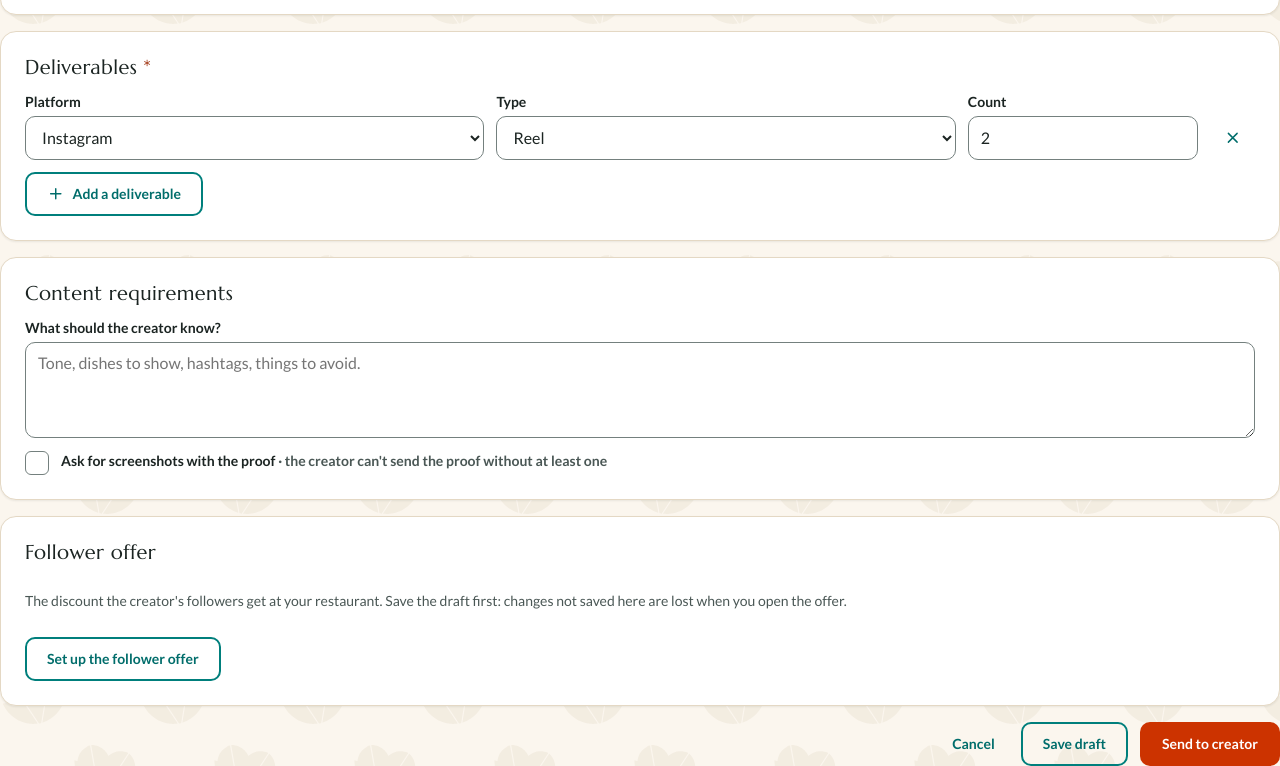
Test: lets the brand ask for screenshots with the proof, and shows it in the sent terms
(page scrolled)
Step 1. Click the checkbox labelled "Ask for screenshots with the proof" → [316, 463], box [25,451,607,475]
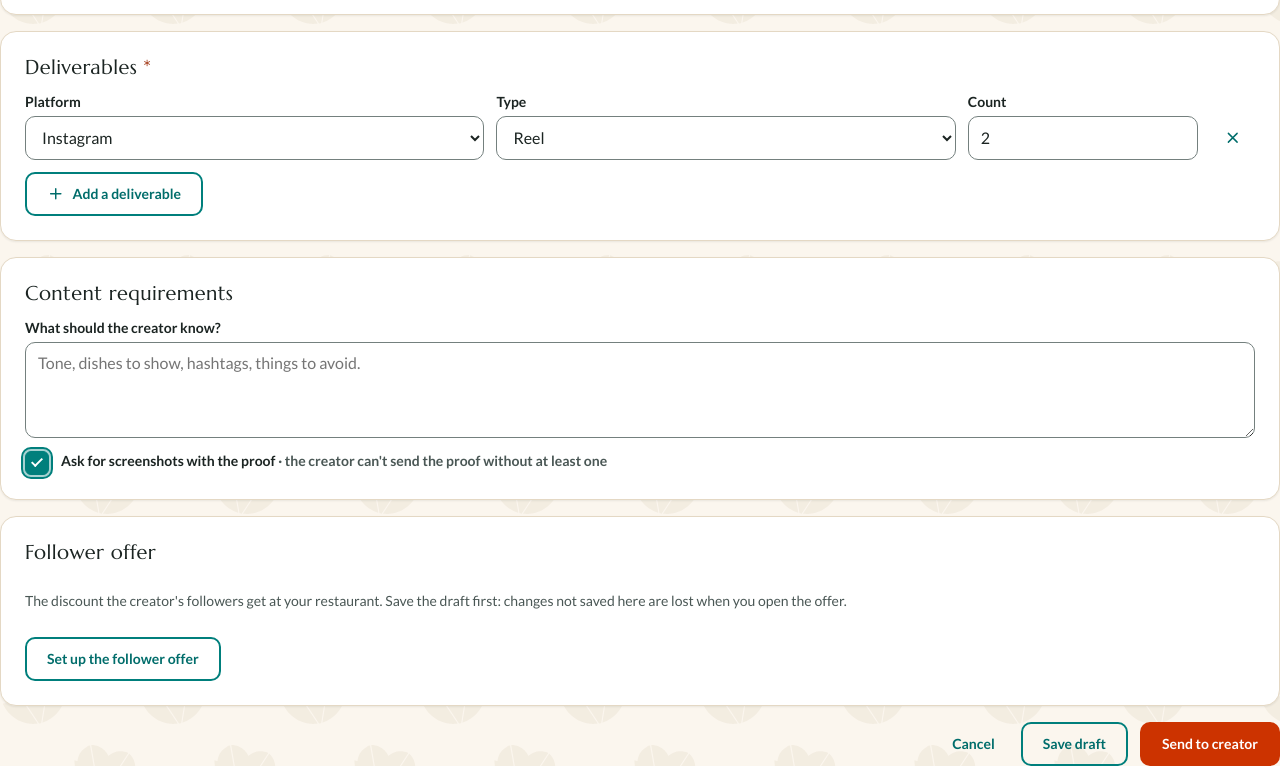
Step 2. Click the button "Send to creator" → [1210, 744], box [1140,722,1279,765]
(page scrolled)
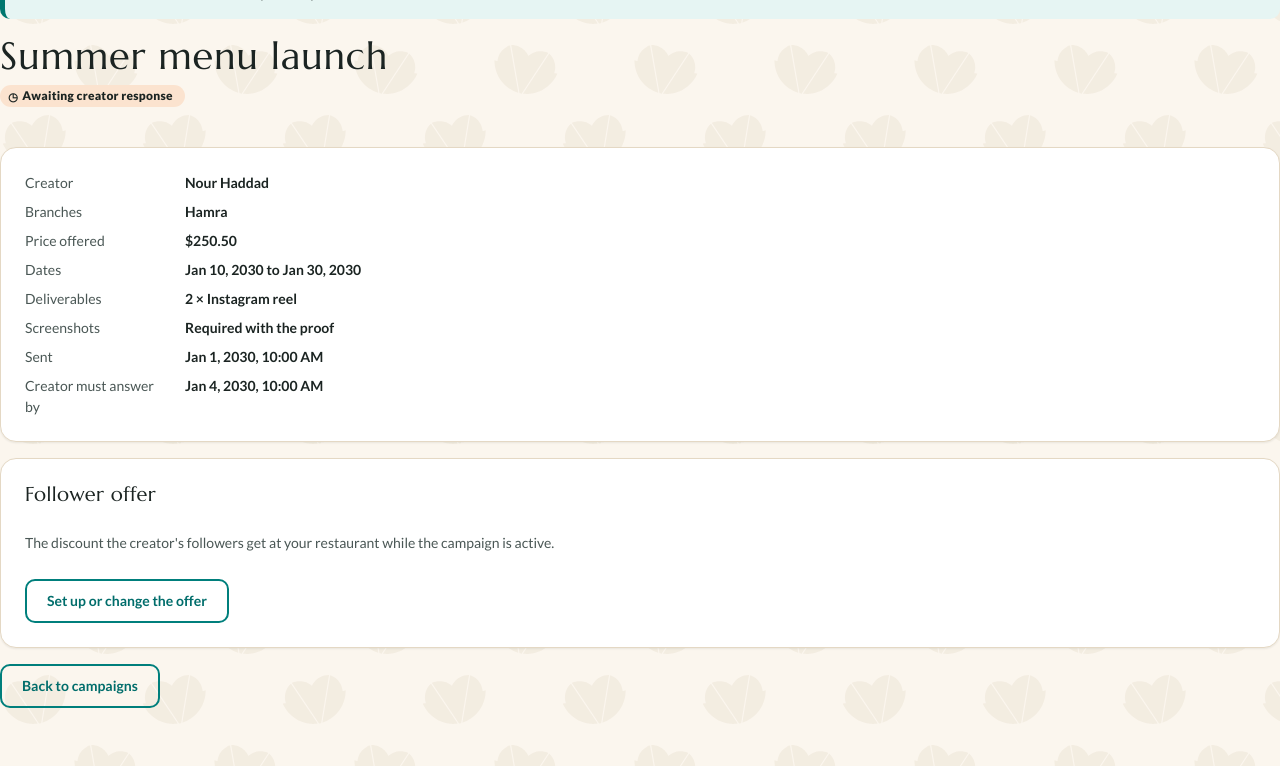
Check: the text "Required with the proof" is shown, box [185,319,334,336]
